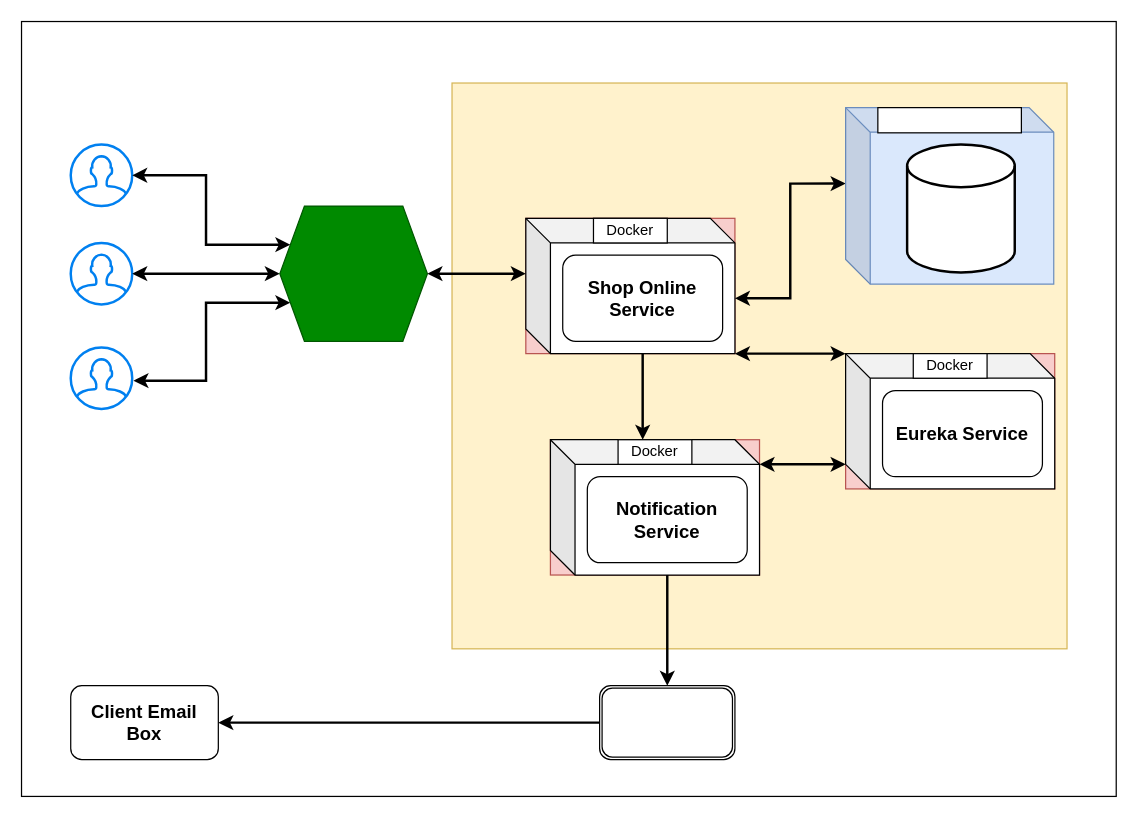
The diagram is 1138 pixels wide and 818 high, and some of its shapes have lost their labels. Each missing label, with the box of its shape:
Docker Volume: (877, 106, 1021, 133)
Email Server: (598, 684, 735, 760)
MySQL Database: (905, 143, 1015, 273)
NGINX Reverse Proxy: (279, 205, 427, 341)
